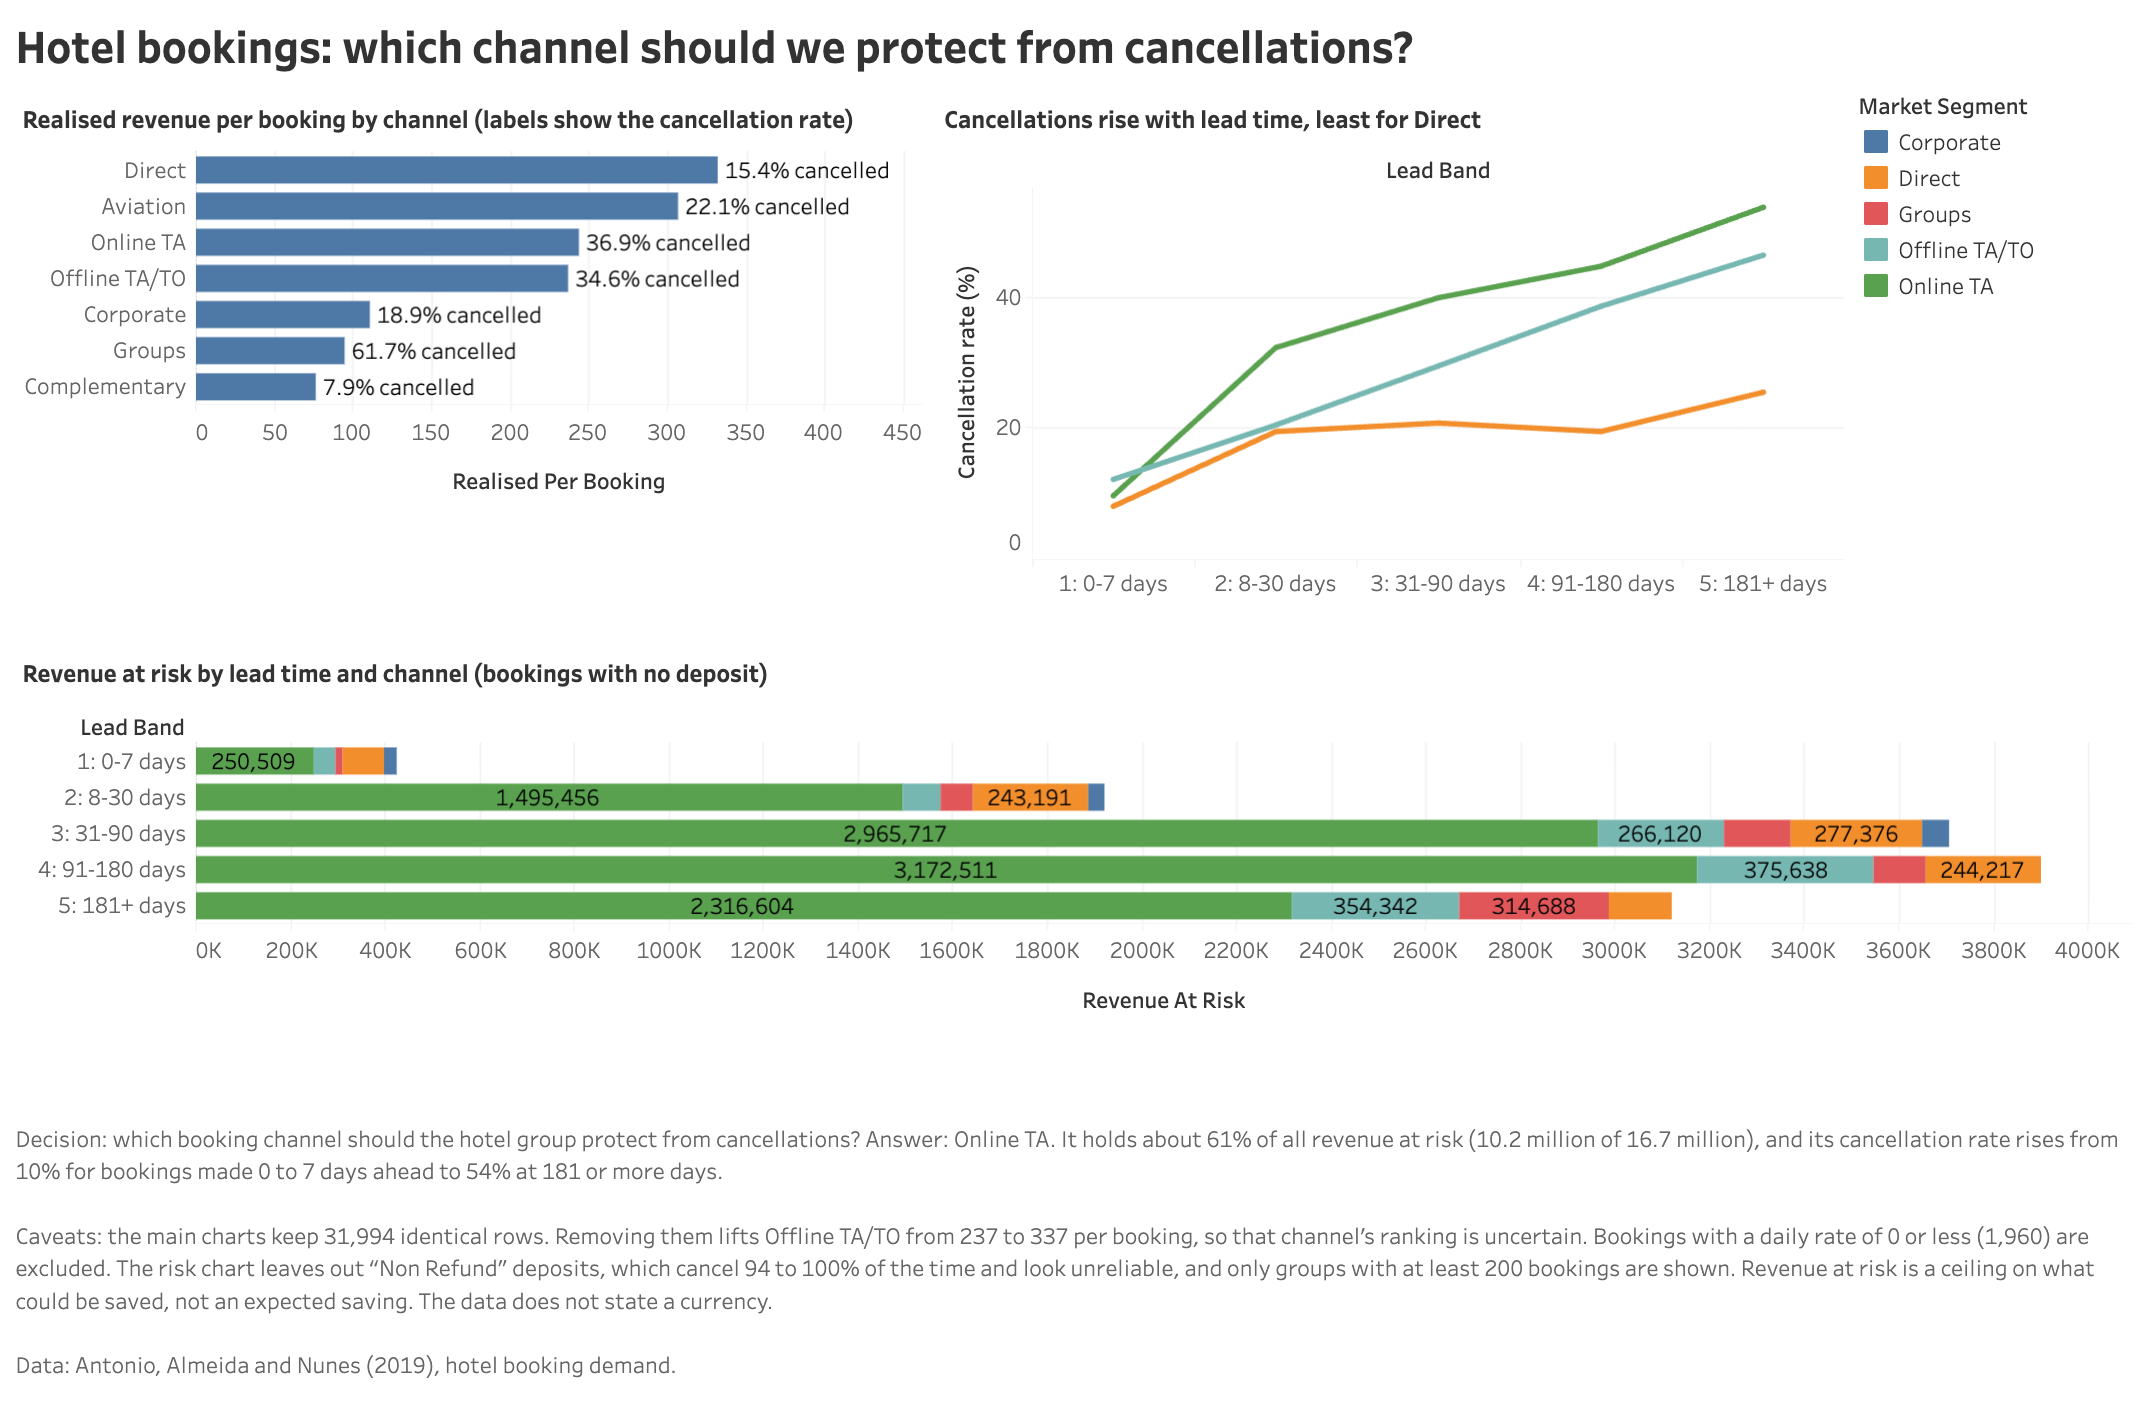

This screenshot's page, from the dashboard's own definition file:
{"tool":"tableau","page":{"name":"Dashboard 1","canvas":[1200,800],"ordinal":0},"visuals":[{"type":"title","box":[8,8,1184,42]},{"type":"worksheet","title":"Channel quality","mark":"Automatic","rows":["market_segment"],"cols":["realised_per_booking"],"box":[8,50,512,308]},{"type":"worksheet","title":"Lead time","mark":"Line","rows":["cancel_pct"],"cols":["lead_band"],"box":[520,50,512,308]},{"type":"legend","title":"Revenue at risk","param":"[federated.1vq1r8v1j0wcf31450j9o10tkb6o].[none:market_segment:nk]","box":[1032,50,160,127]},{"type":"worksheet","title":"Revenue at risk","mark":"Automatic","rows":["lead_band"],"cols":["revenue_at_risk"],"box":[8,358,1184,248.5]},{"type":"text","box":[8,606.5,1184,185.5]}]}

Visuals, with their boxes in screenshot pixels (x1, y1, x2, y2), scaled from the page's 1200x800 canvas onto the 2148x1426 screenshot:
title: 14/14/2134/89
"Channel quality" worksheet: 14/89/931/638
"Lead time" worksheet (Line marks): 931/89/1847/638
"Revenue at risk" legend: 1847/89/2134/316
"Revenue at risk" worksheet: 14/638/2134/1081
text: 14/1081/2134/1412
